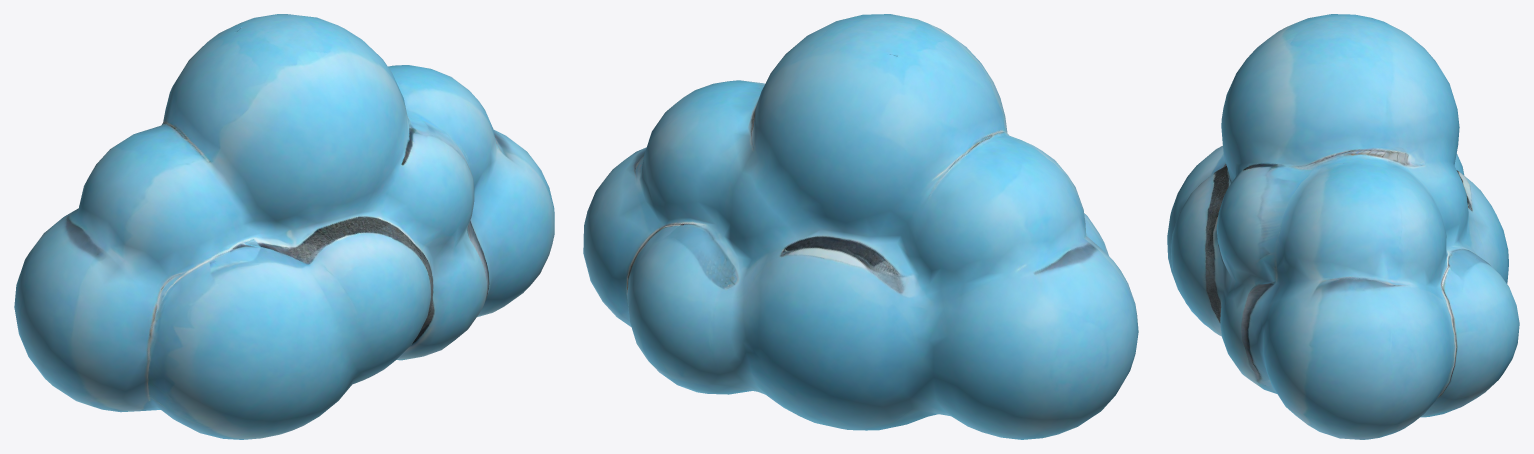
File: testCloudBlue.glb
The picture shows the model from 3 angles, left to right: view 1: azimuth 30°, elevation 25°; view 2: azimuth 150°, elevation 25°; view 3: azimuth 270°, elevation 25°; orthographic projection. The views are drawn at different scales.
Visible parts, largest first — view 1: Mesh_0; view 2: Mesh_0; view 3: Mesh_0.
Boxes of the visible parts, x1,y1,x2,y2 form: Mesh_0: (14,14,554,439); Mesh_0: (583,14,1138,439); Mesh_0: (1167,14,1519,439).
Bounding box in the file's own units: 1.46 × 1 × 0.9107.
1 material, 1 textured.
